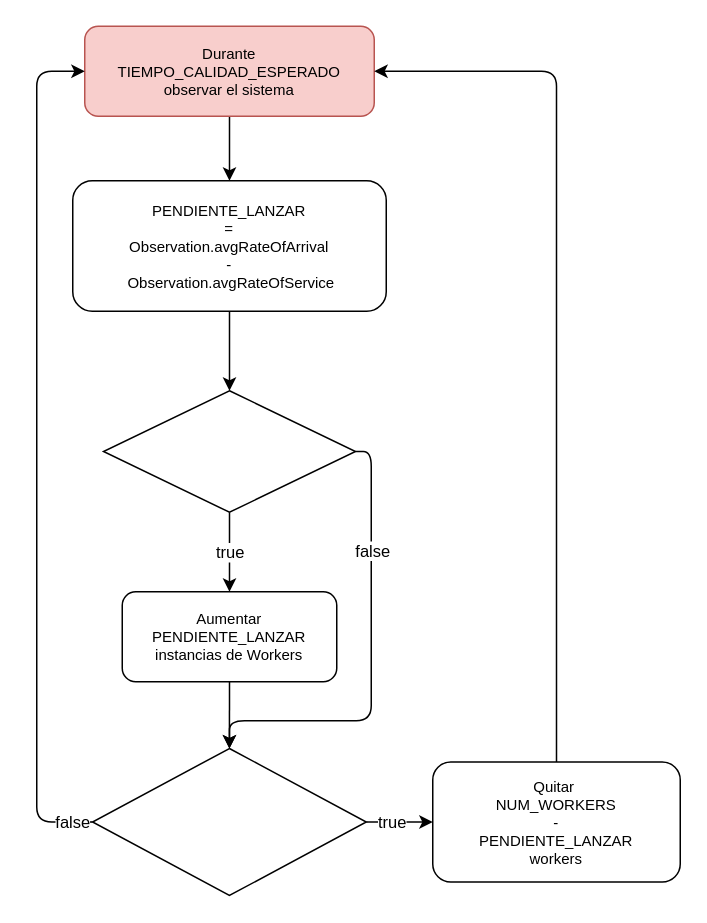
Some shapes in this 707 by 923 pixel diagram are drawn without their labels. Here are the shapes that lost their labels. From the top down, the centre of each, then its label:
At pixel 229 450: "PENDIENTE_LANZAR > NUM_WORKERS".
At pixel 228 821: "NUM_WORKERS > 1 && (NUM_WORKERS -PENDIENTE_LANZAR) > 0".
